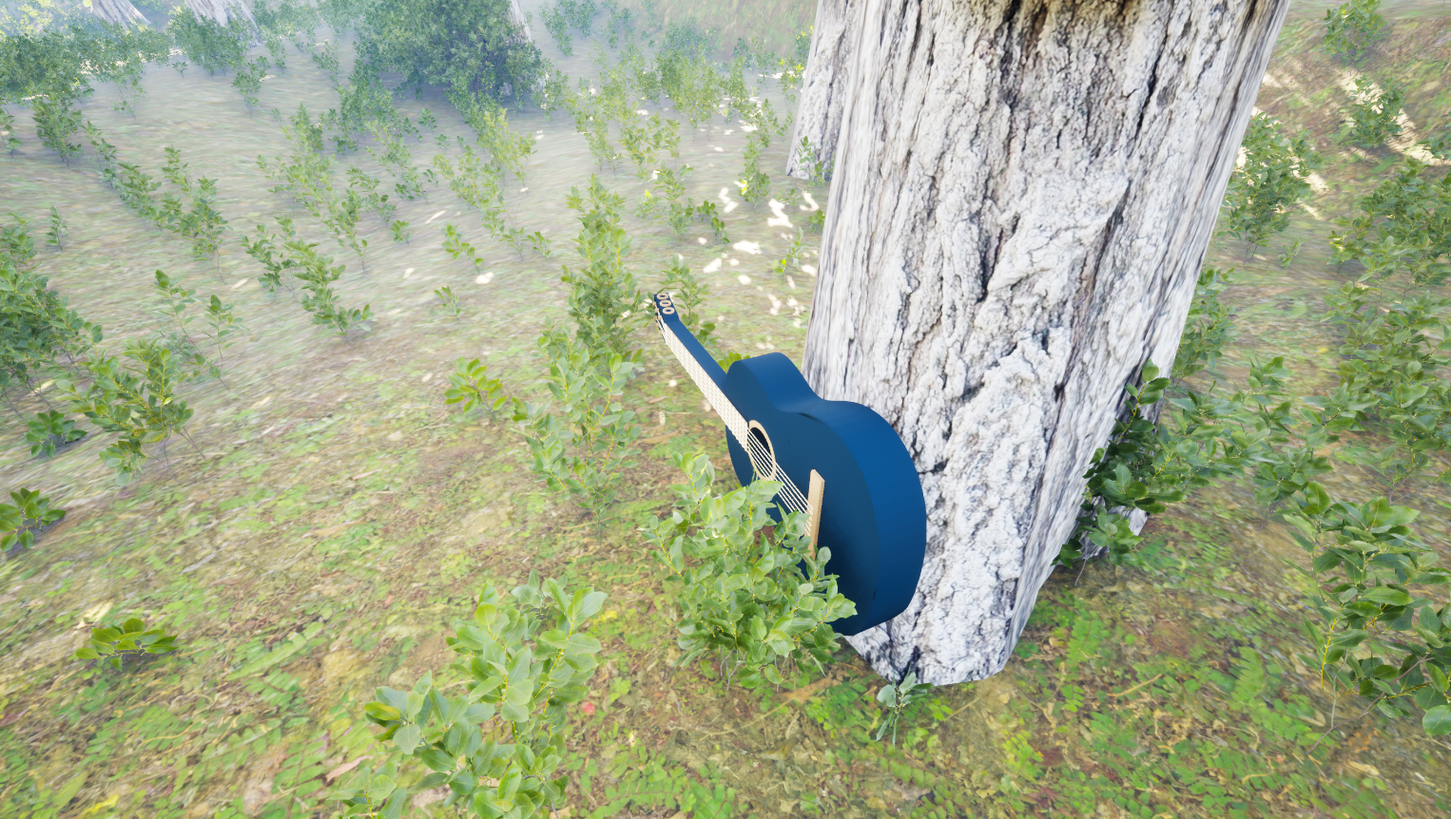Guitar: (637, 231, 948, 676)
